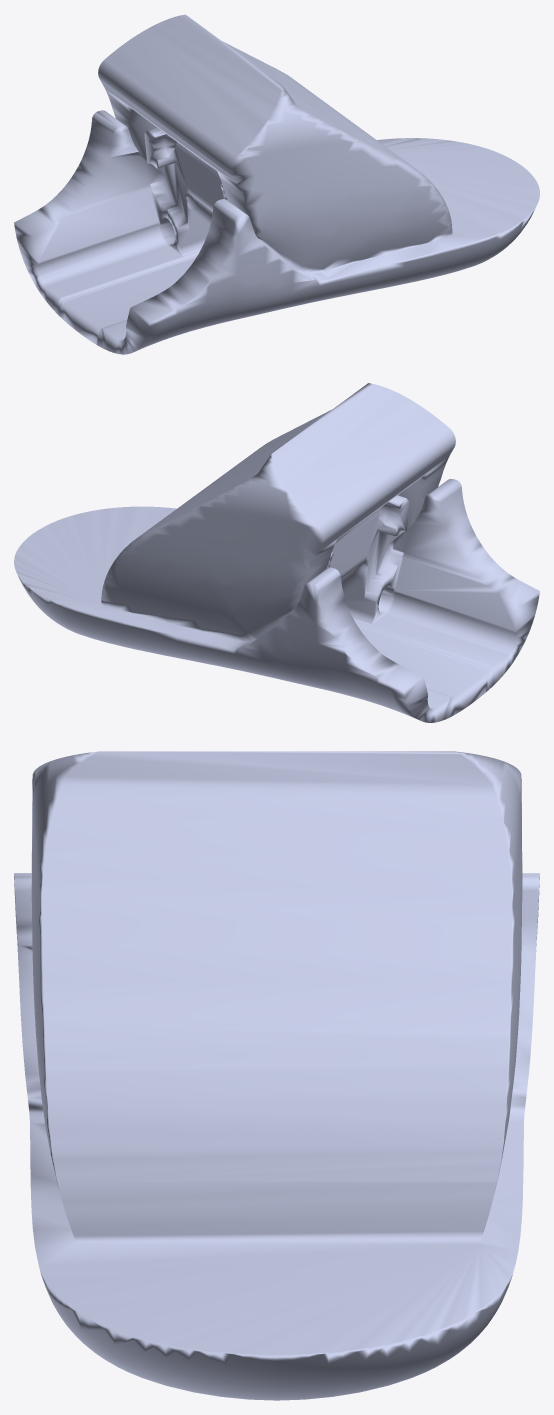
Rendered from right_DP_Visual_HB1_TH_cad1ee.glb.
The picture shows the model from 3 angles, top to bottom: view 1: azimuth 30°, elevation 25°; view 2: azimuth 150°, elevation 25°; view 3: azimuth 270°, elevation 25°; orthographic projection. The views are drawn at different scales.
Parts seen in each view (by area): view 1: DP_Visual_HB1_TH_0; view 2: DP_Visual_HB1_TH_0; view 3: DP_Visual_HB1_TH_0.
Part boxes in pixels (x1,y1,x2,y2): DP_Visual_HB1_TH_0: (14, 14, 539, 354); DP_Visual_HB1_TH_0: (14, 383, 539, 722); DP_Visual_HB1_TH_0: (14, 751, 539, 1400).
Bounding box in the file's own units: 0.0324 × 0.0175 × 0.0182.
